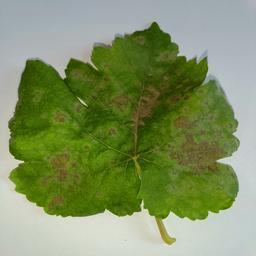Powdery-Mildew: (174, 116, 233, 176), (113, 80, 167, 120), (50, 147, 85, 200), (193, 86, 229, 126), (52, 103, 81, 135), (21, 164, 48, 196), (72, 68, 102, 95), (15, 132, 46, 156), (152, 46, 176, 74), (102, 126, 119, 142)
